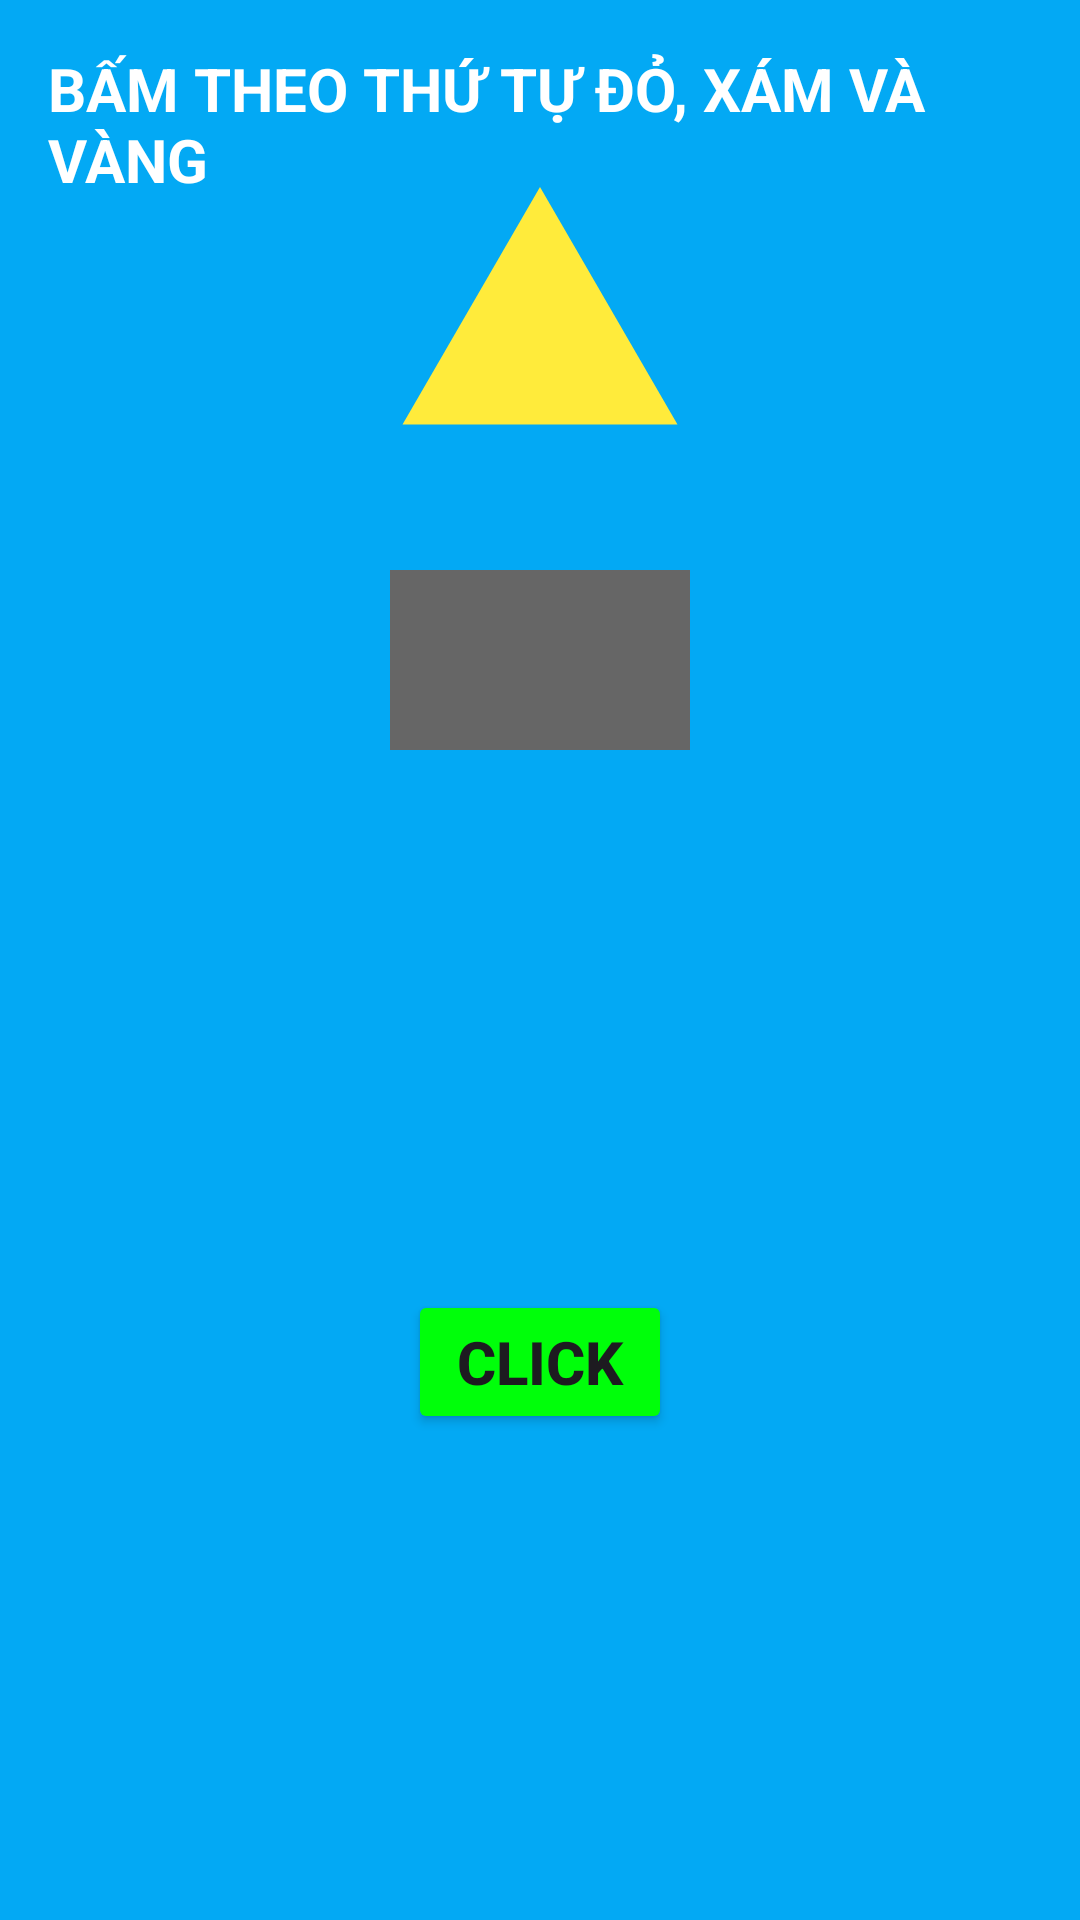

Screen size 1080px x 1920px. Icon name, then its center in pixels as (x,y):
triangle: (540,306)
